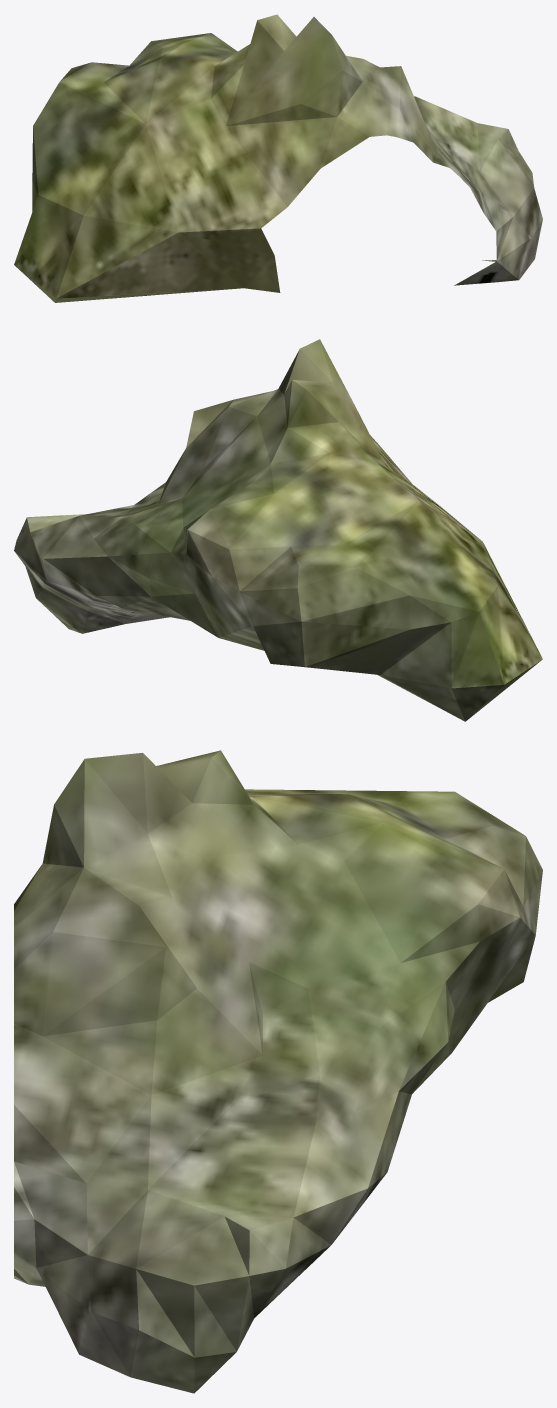
3 renders of one model, top to bottom at view 1: azimuth 30°, elevation 25°; view 2: azimuth 150°, elevation 25°; view 3: azimuth 270°, elevation 25°, orthographic. The views are drawn at different scales.
Size of the model in its own units: 1.24 by 0.7508 by 0.7426.
Materials: 1 (1 with a texture image).
